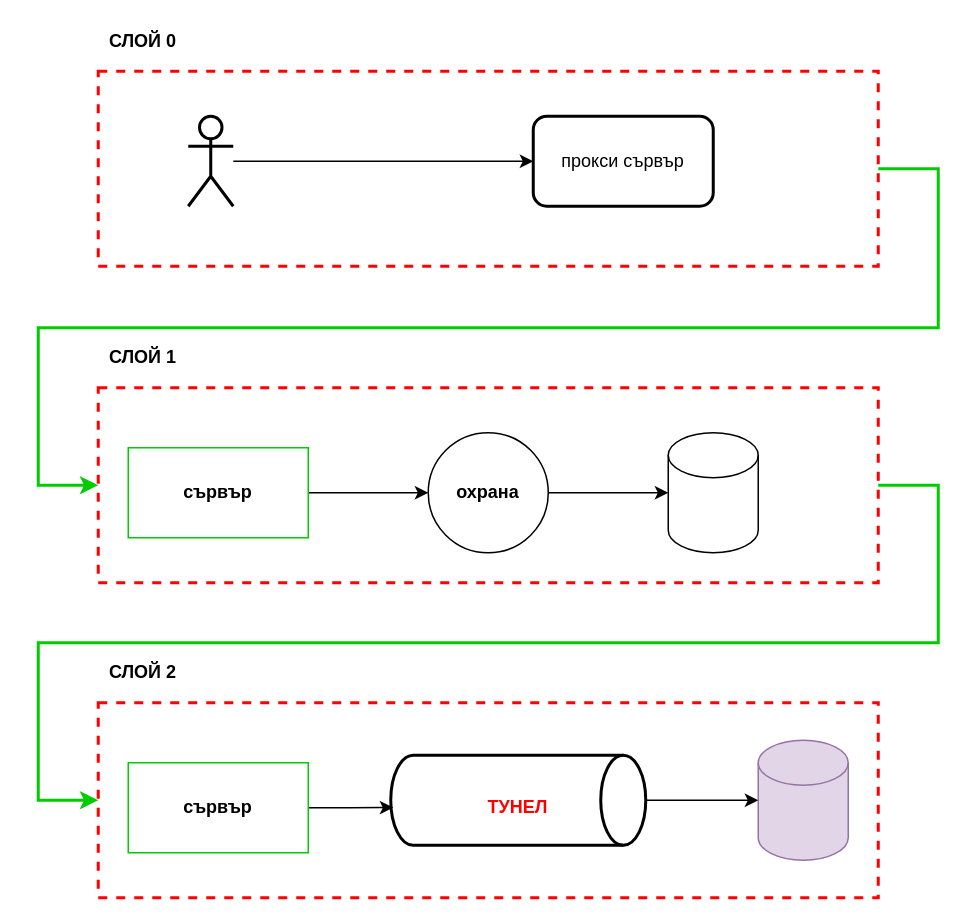
This 977x924 diagram has some shape labels left out. Here are the shapes that lost their labels. From the top down, the centre of each, then its label:
the point at 210,160: работна станция
the point at 712,492: данни
the point at 802,799: банка
